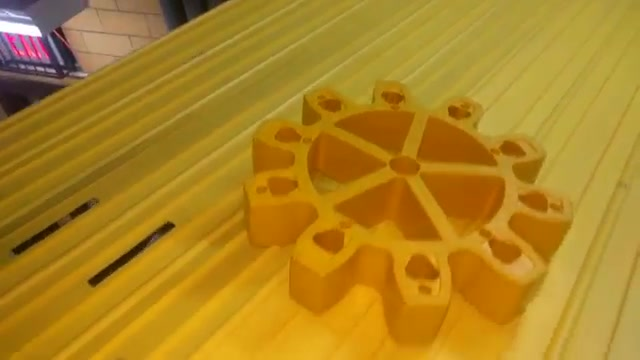gear: (239, 70, 588, 349)
